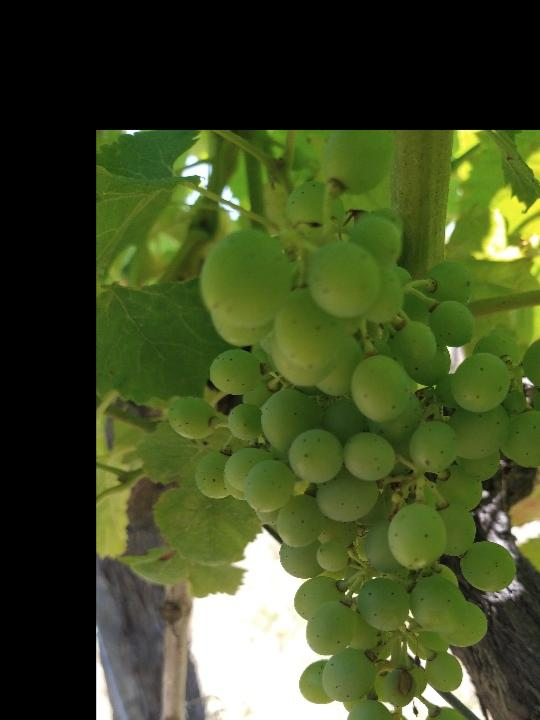grape: (164, 132, 540, 720)
